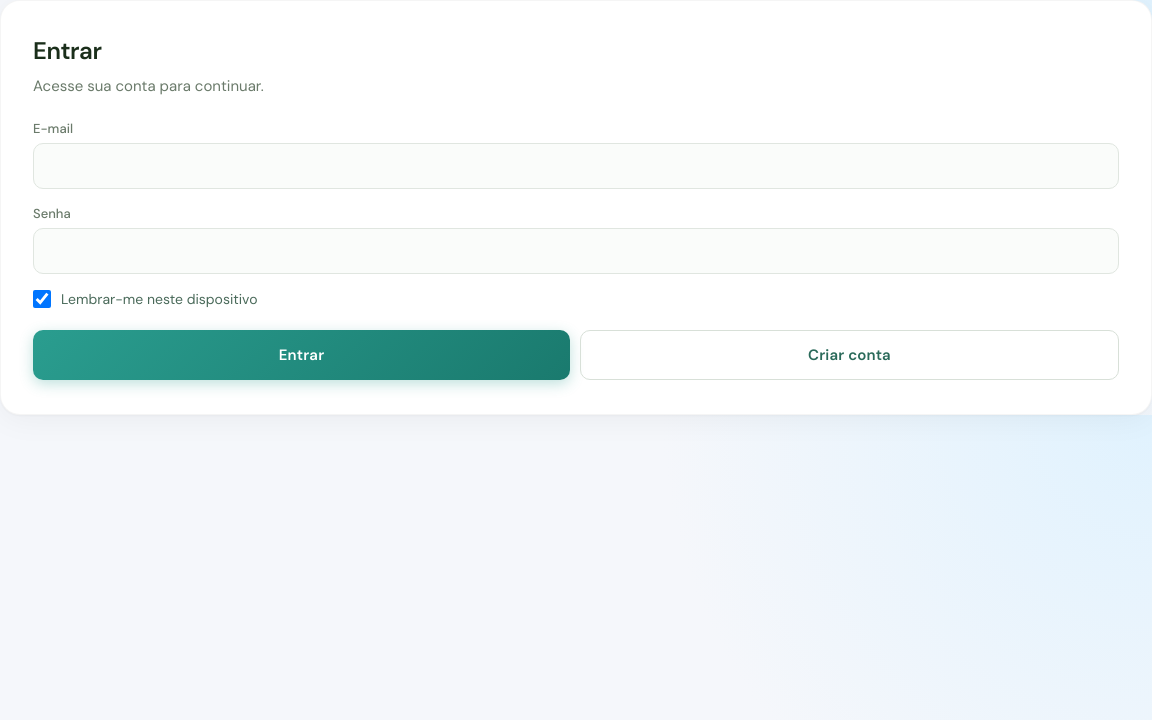
Test: LoginForm › mostra mensagens legíveis ao enviar vazio
Click the button "Entrar".
click(302, 355)  # box [33, 330, 570, 380]
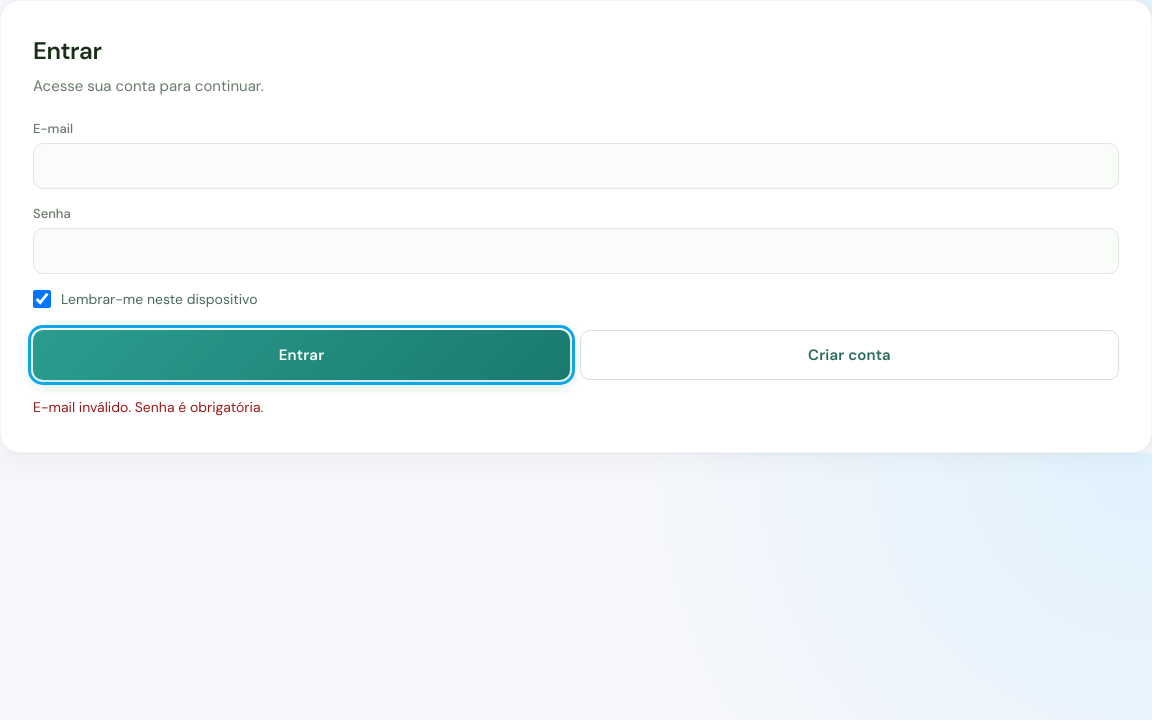
expect the text "E-mail inválido. Senha é obrigatória." is shown: met, box [33, 398, 263, 416]
